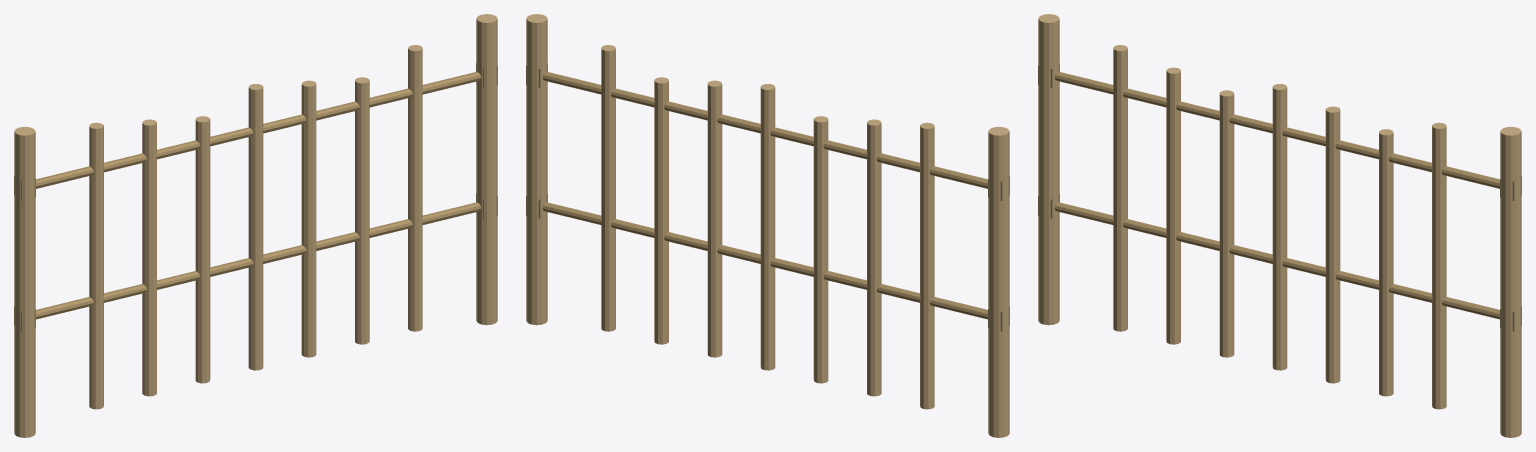
File: Prop_Fence_Module.fbx
3 views of the same model, side by side, from view 1: azimuth 30°, elevation 25°; view 2: azimuth 150°, elevation 25°; view 3: azimuth 330°, elevation 25° (orthographic).
Visible parts, largest first — view 1: Prop_Fence_Module; view 2: Prop_Fence_Module; view 3: Prop_Fence_Module.
Boxes of the visible parts, x1=… form: Prop_Fence_Module: x1=14, y1=14, x2=497, y2=437; Prop_Fence_Module: x1=526, y1=14, x2=1009, y2=437; Prop_Fence_Module: x1=1038, y1=14, x2=1521, y2=437.
Bounding box in the file's own units: 2.08 × 1.25 × 0.08.
